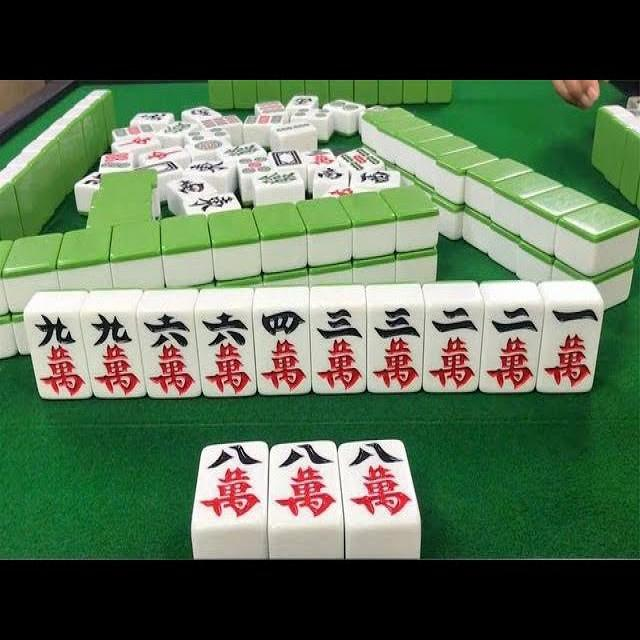1C: (539, 304, 599, 394)
2C: (482, 307, 544, 394), (425, 305, 482, 392)
3C: (367, 305, 423, 393), (312, 306, 367, 395)
4C: (256, 308, 311, 396)
6C: (140, 308, 197, 397), (198, 310, 252, 397)
8C: (344, 442, 416, 526), (194, 445, 266, 527), (272, 445, 342, 528)
9C: (25, 312, 85, 399), (81, 312, 141, 399)
